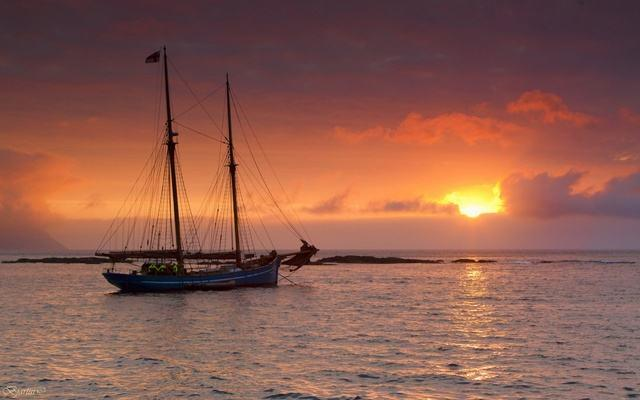fanchuan: (93, 44, 318, 299)
